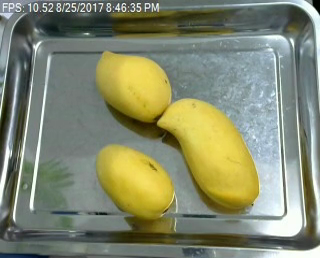Mango: (157, 97, 262, 211), (92, 141, 177, 218), (96, 48, 171, 122)
